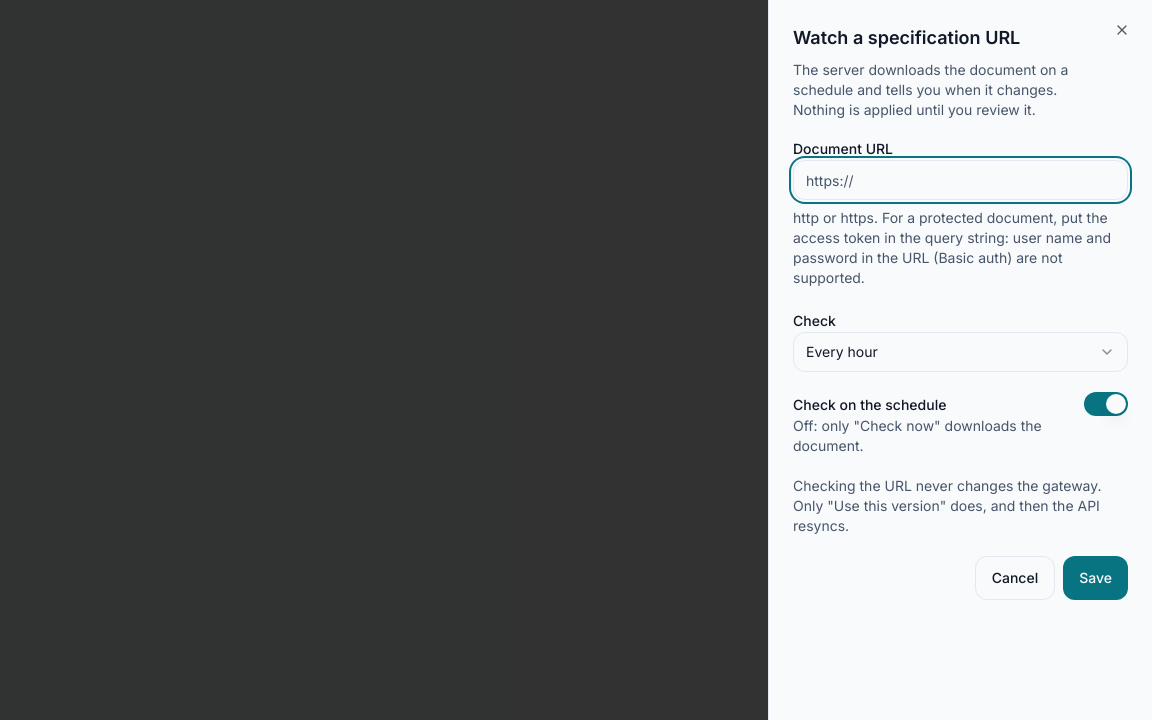
Test: SpecSourceSheet › refuses ftp://specs.example.com/spec before any request
This screenshot has width=1152, height=720.
In the field labelled "Document URL": (960, 180) x1=793 y1=160 x2=1128 y2=200, type "ftp://specs.example.com/spec"
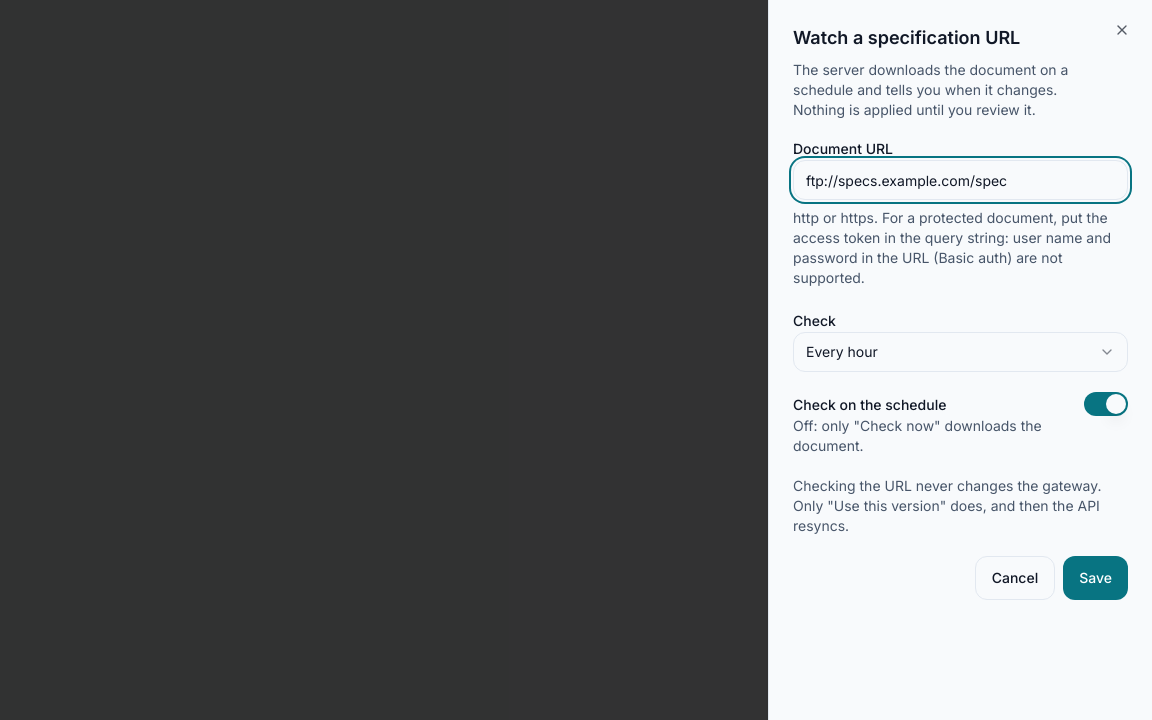
Click the button "Save": (1096, 578) x1=1063 y1=556 x2=1128 y2=600
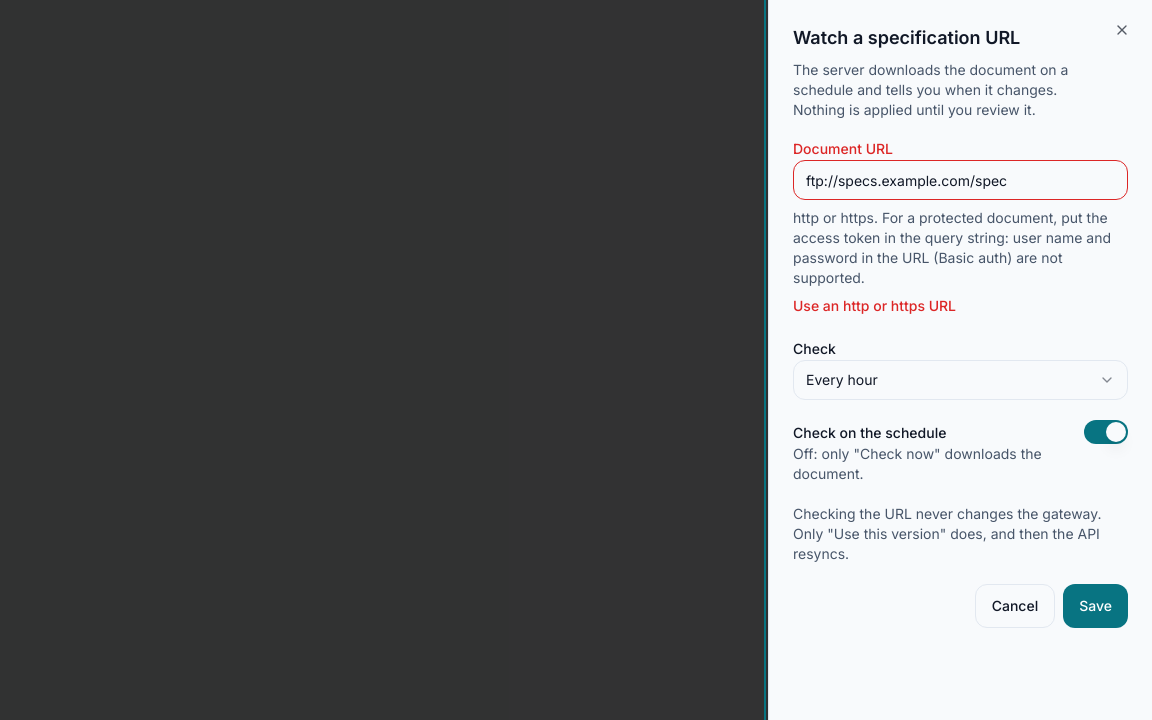
Result: the text "Use an http or https URL" is shown at x1=793 y1=297 x2=956 y2=314
